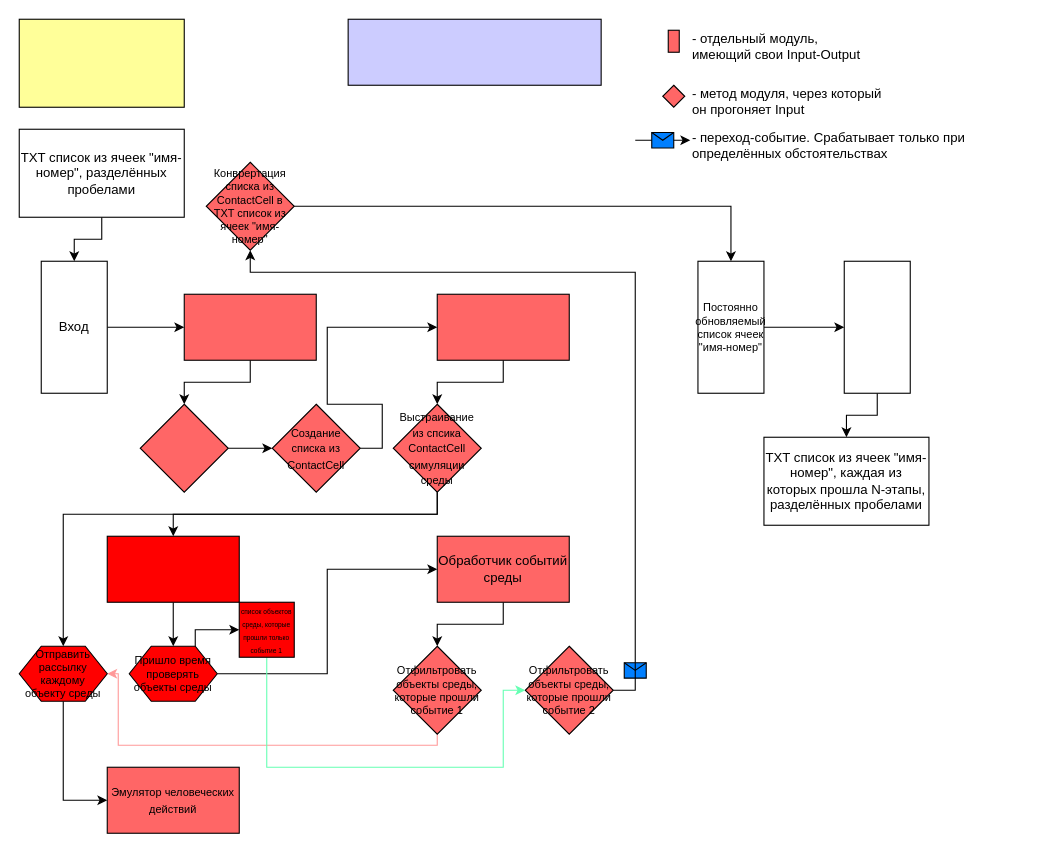
Some shapes in this 1040 by 853 pixel diagram are drawn without their labels. The shapes that lost their labels are listed below. From the top down, each one's box as (x1, y1, x2, y2) in pixels, then its label:
(18, 18, 184, 107): Класс ContactCell представляет собой ячейку "имя-номер", разделённую пробелом
(347, 18, 601, 85): Схема обработки данных "Автоматизированным менеджером рассылки"
(183, 293, 316, 360): Обработчик массивов ячеек
(436, 293, 569, 360): Слой симуляции среды
(843, 260, 910, 393): Выход
(139, 403, 228, 492): Конвертация таблицы на ячейки "имя-номер"
(106, 535, 239, 602): Главный распределитель задач среды
